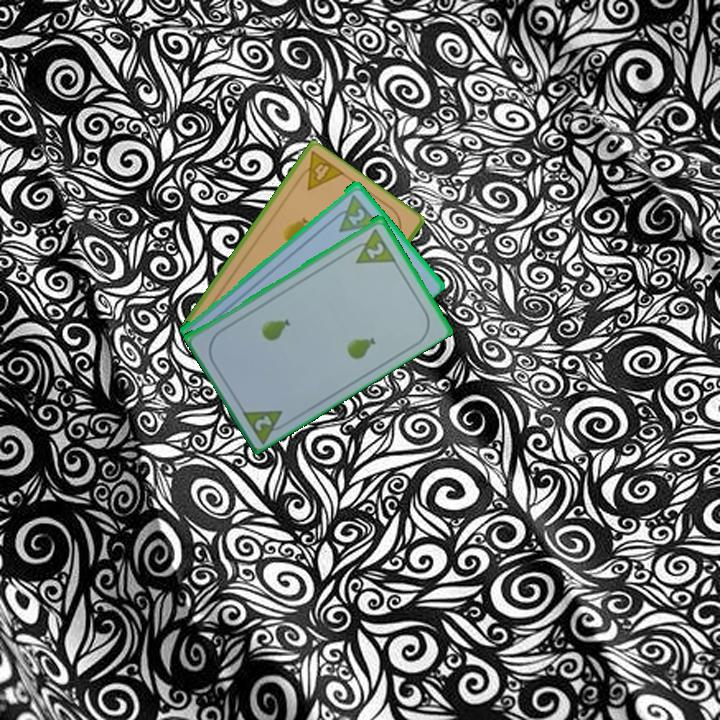2p: (344, 204, 368, 228), (363, 238, 387, 261), (251, 411, 275, 434)
4p: (292, 148, 347, 193)
